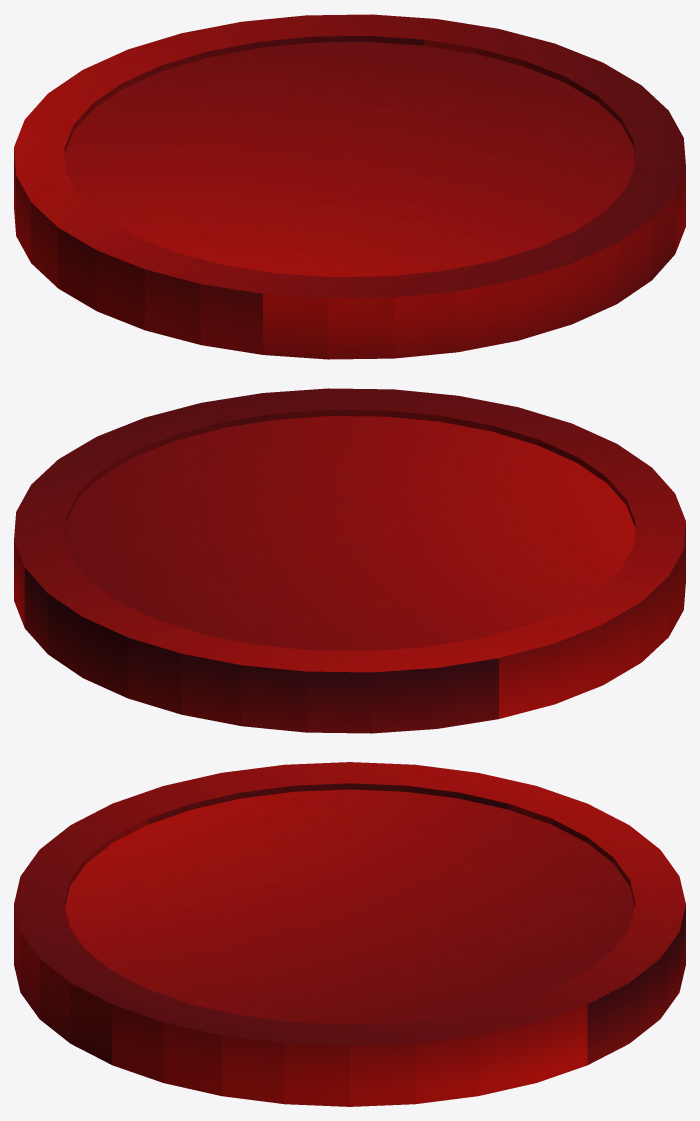
File: red_round_puck.obj
The picture shows the model from 3 angles, top to bottom: view 1: azimuth 30°, elevation 25°; view 2: azimuth 150°, elevation 25°; view 3: azimuth 270°, elevation 25°; orthographic projection.
Parts seen in each view (by area): view 1: Cylinder.001; view 2: Cylinder.001; view 3: Cylinder.001.
Part boxes in pixels (bbox=[...]): Cylinder.001: bbox=[14, 14, 685, 359]; Cylinder.001: bbox=[14, 388, 685, 733]; Cylinder.001: bbox=[14, 762, 685, 1106].
Bounding box in the file's own units: 1 × 0.1 × 1.
Materials: 1 (1 with a texture image).
